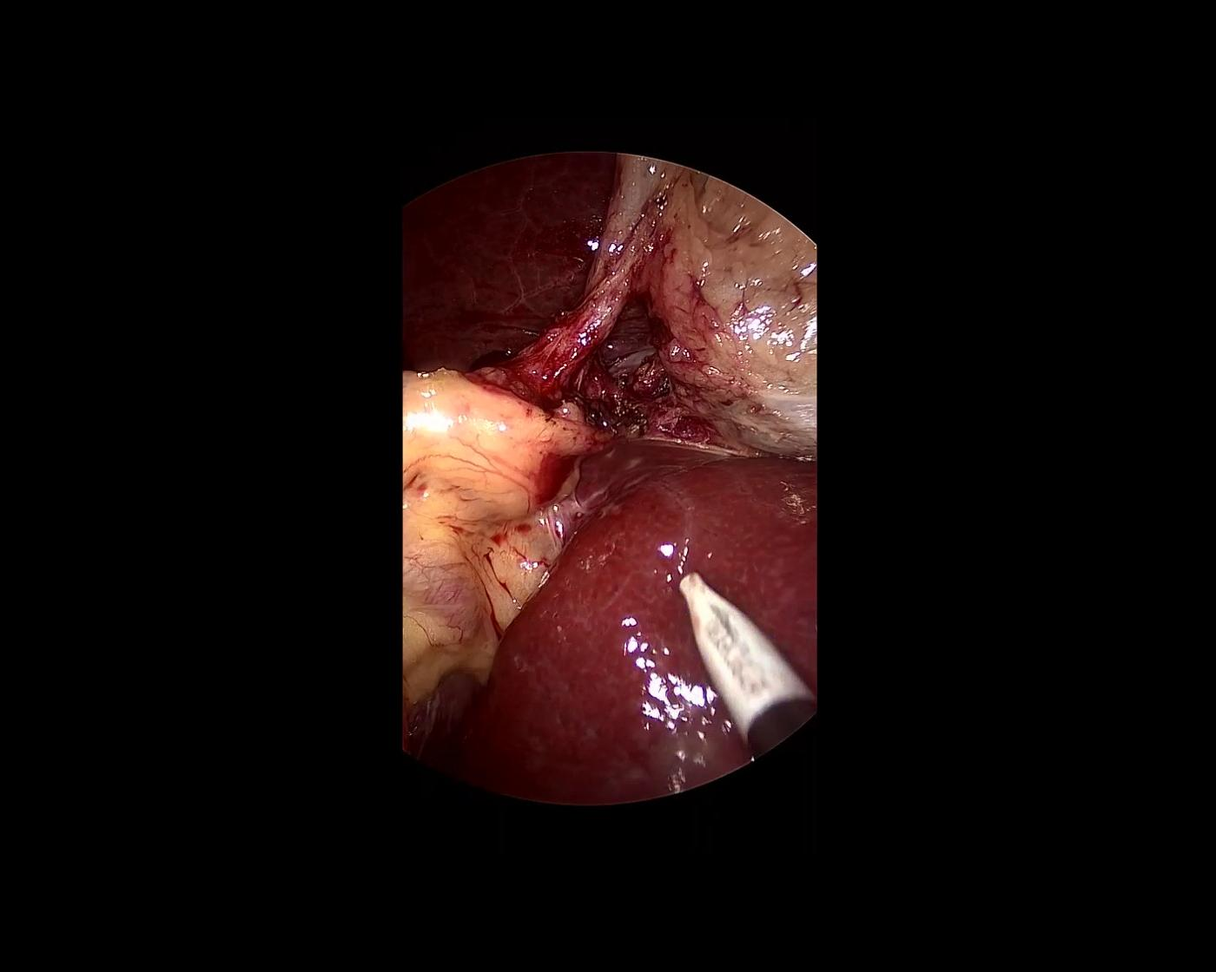Cautery: (638, 557, 824, 760)
Gallbladder: (604, 153, 815, 463)
Liver: (454, 420, 844, 833), (403, 156, 613, 370)
